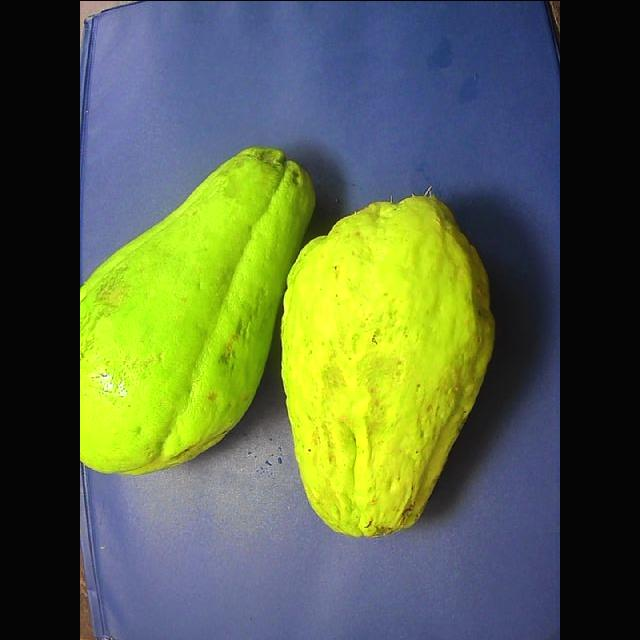chayote: (80, 147, 315, 474), (281, 196, 494, 536)
